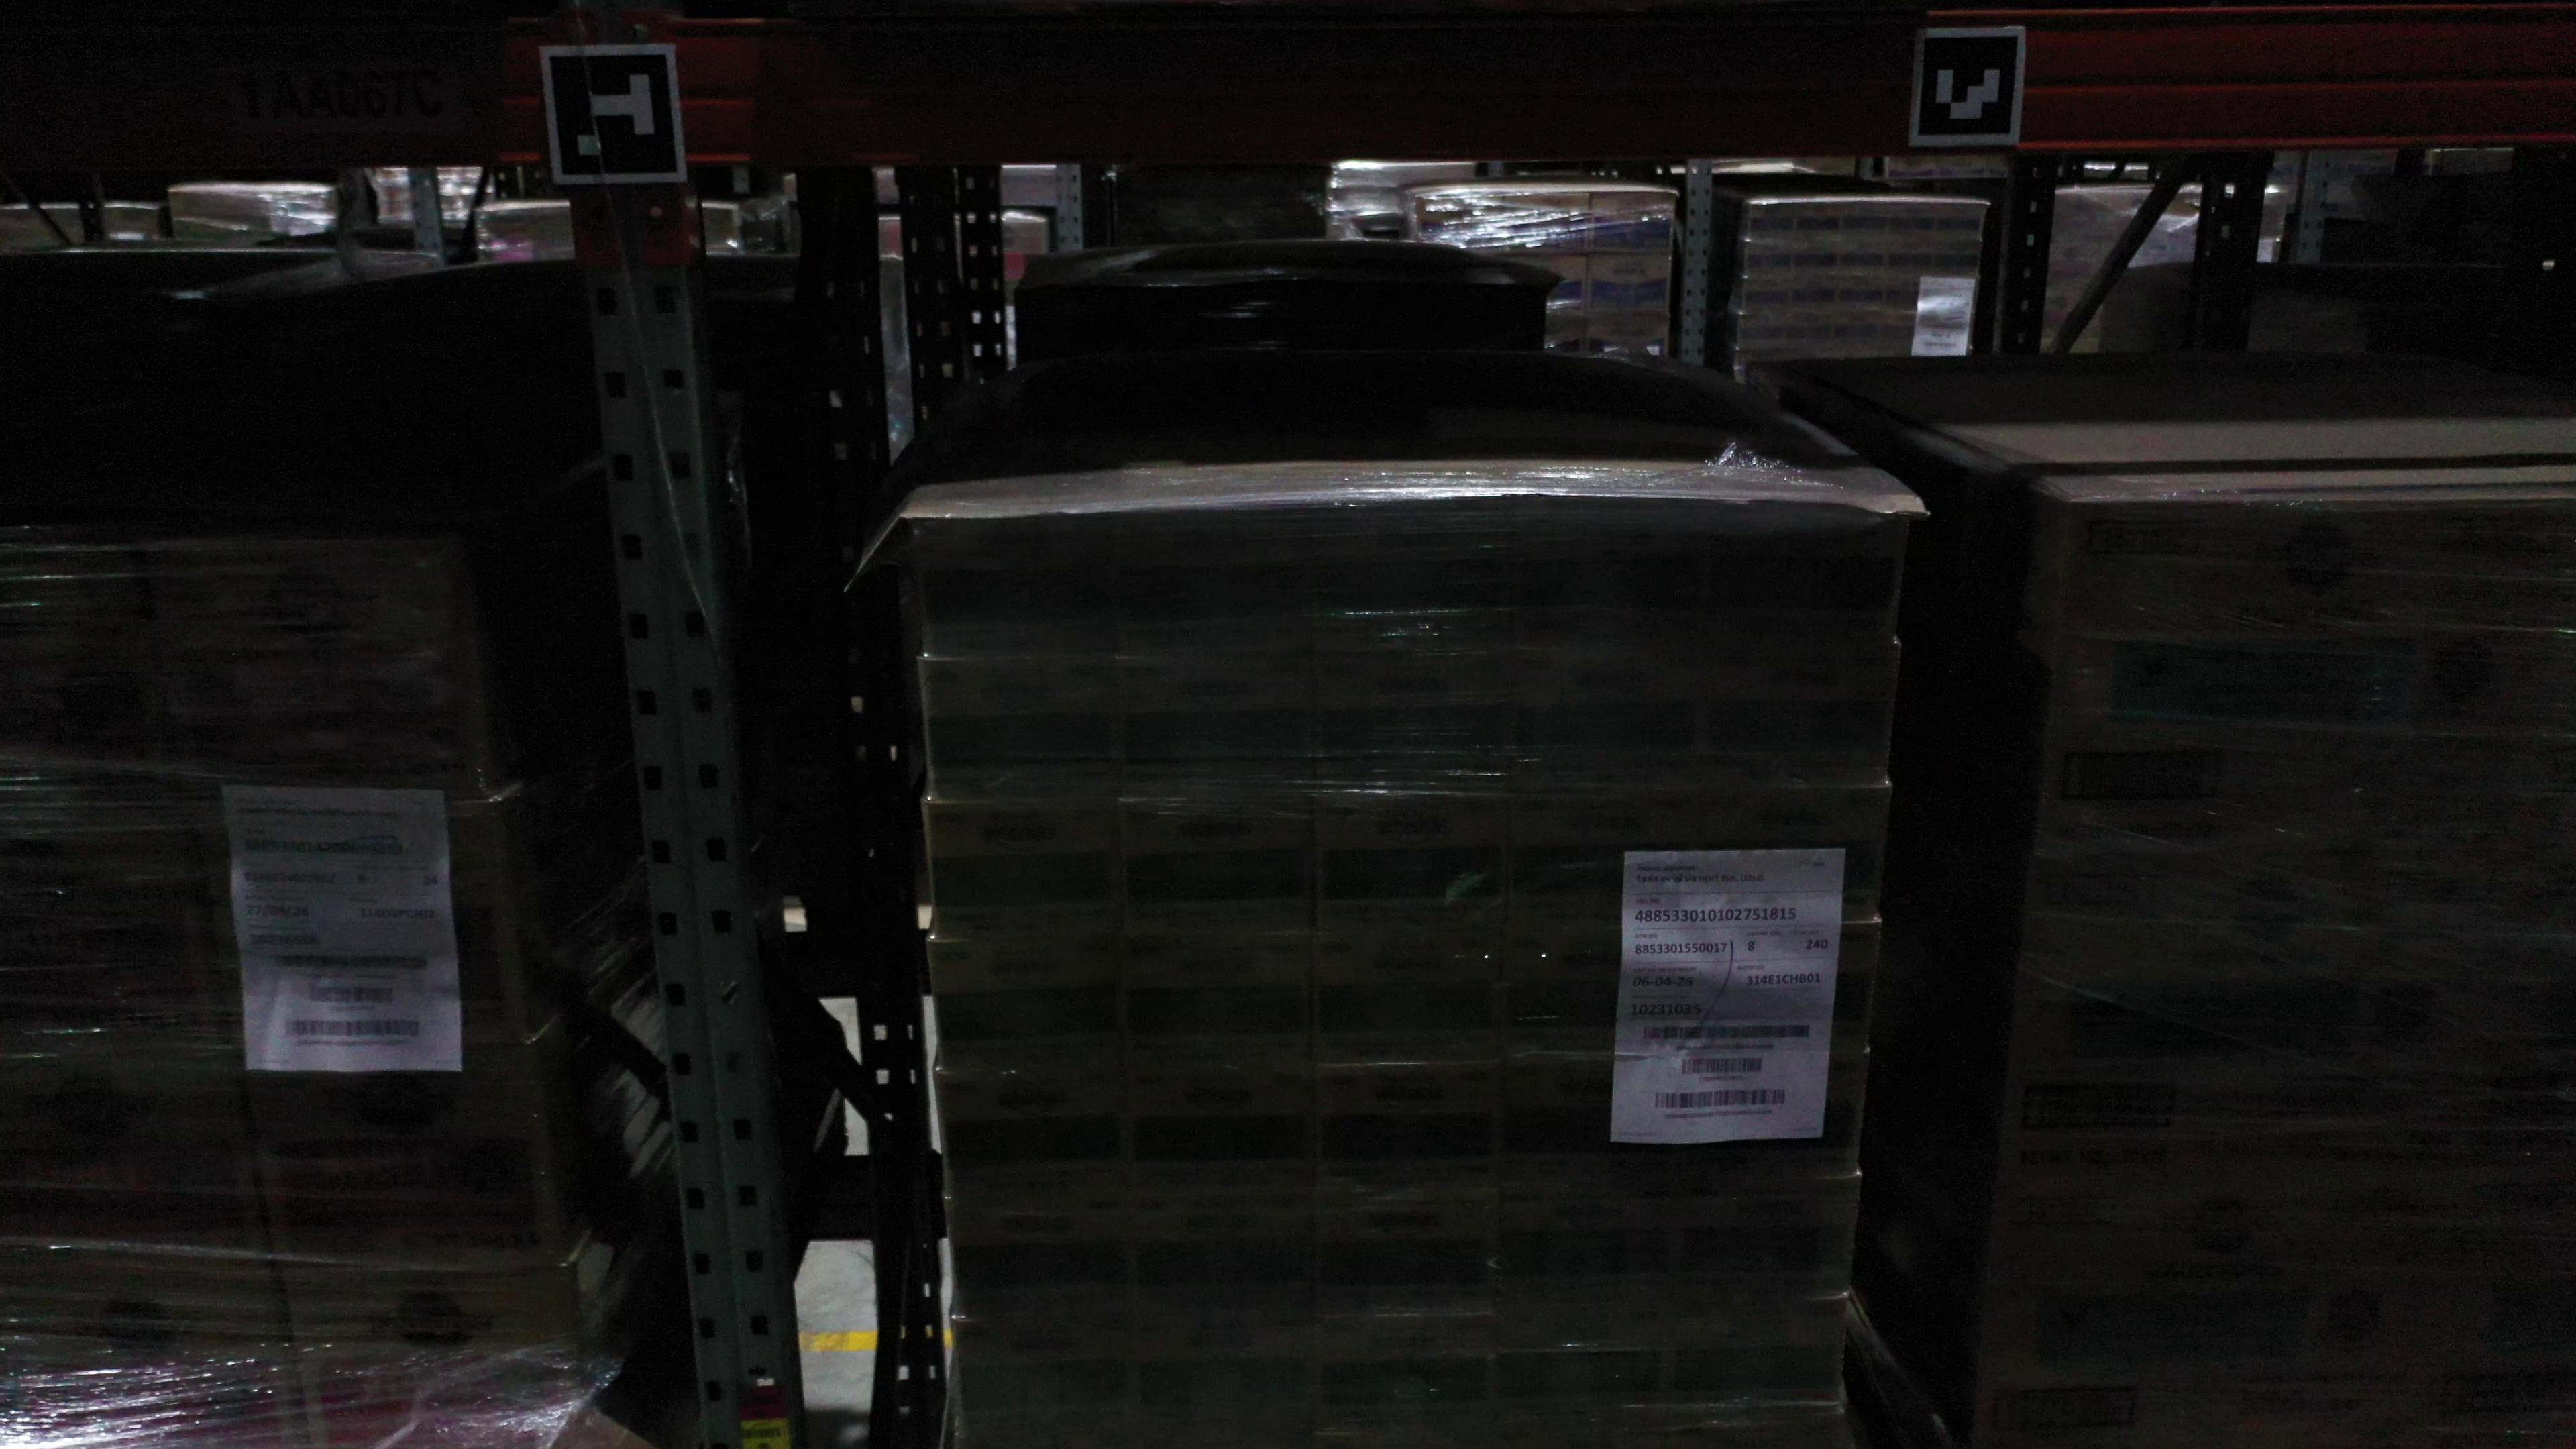-: (2031, 499, 2541, 867), (1996, 855, 2488, 1189), (1973, 1187, 2443, 1449), (133, 533, 490, 807), (188, 798, 531, 1051), (239, 1040, 563, 1265), (0, 1053, 274, 1269), (280, 1265, 600, 1449), (2, 807, 232, 1053), (2, 1265, 303, 1449), (0, 548, 186, 807), (2410, 1184, 2576, 1449), (2443, 865, 2576, 1187), (1309, 499, 1516, 656), (2491, 497, 2576, 865), (1113, 506, 1315, 658), (913, 515, 1118, 663), (1516, 495, 1709, 649), (1313, 653, 1516, 798), (1118, 651, 1315, 800), (922, 656, 1122, 801), (1716, 502, 1905, 649), (1315, 1056, 1502, 1203), (1122, 798, 1318, 938), (1313, 793, 1509, 932), (1502, 1062, 1695, 1203), (929, 800, 1131, 934), (1514, 651, 1707, 791), (1502, 925, 1702, 1060), (1506, 794, 1704, 929), (1313, 927, 1506, 1065), (1120, 1065, 1322, 1196), (1707, 649, 1900, 786), (1122, 932, 1316, 1067), (934, 1067, 1131, 1200), (929, 938, 1123, 1070), (1688, 1053, 1868, 1192), (1697, 920, 1881, 1056), (1706, 787, 1888, 922), (948, 1196, 1136, 1323), (1127, 1192, 1315, 1318), (954, 1318, 1141, 1444), (1136, 1311, 1318, 1437), (1309, 1194, 1502, 1313), (1313, 1313, 1500, 1433), (1497, 1194, 1686, 1313), (1670, 1295, 1847, 1419), (1679, 1180, 1858, 1302), (1491, 1311, 1675, 1426)
